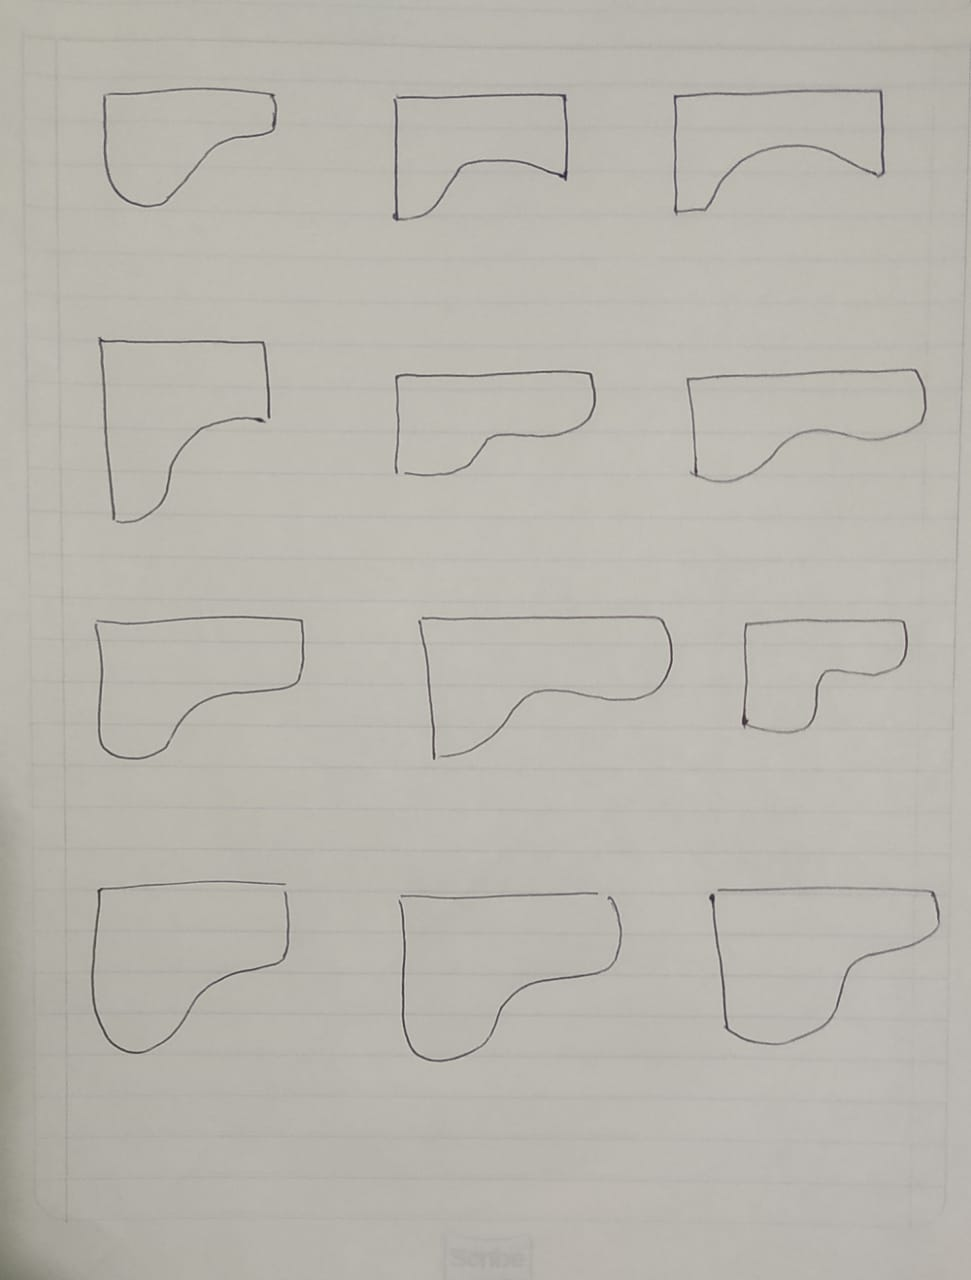print: (380, 862, 640, 1085), (694, 855, 954, 1064), (72, 860, 312, 1071), (409, 595, 688, 773), (73, 309, 287, 542), (656, 70, 906, 241), (76, 600, 323, 771), (667, 339, 934, 496), (372, 345, 608, 498), (372, 75, 585, 241), (724, 592, 927, 757), (83, 70, 294, 224)
